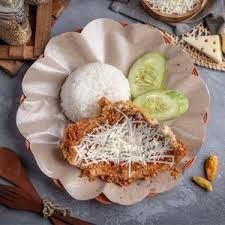ayam_geprek: (63, 95, 192, 183)
